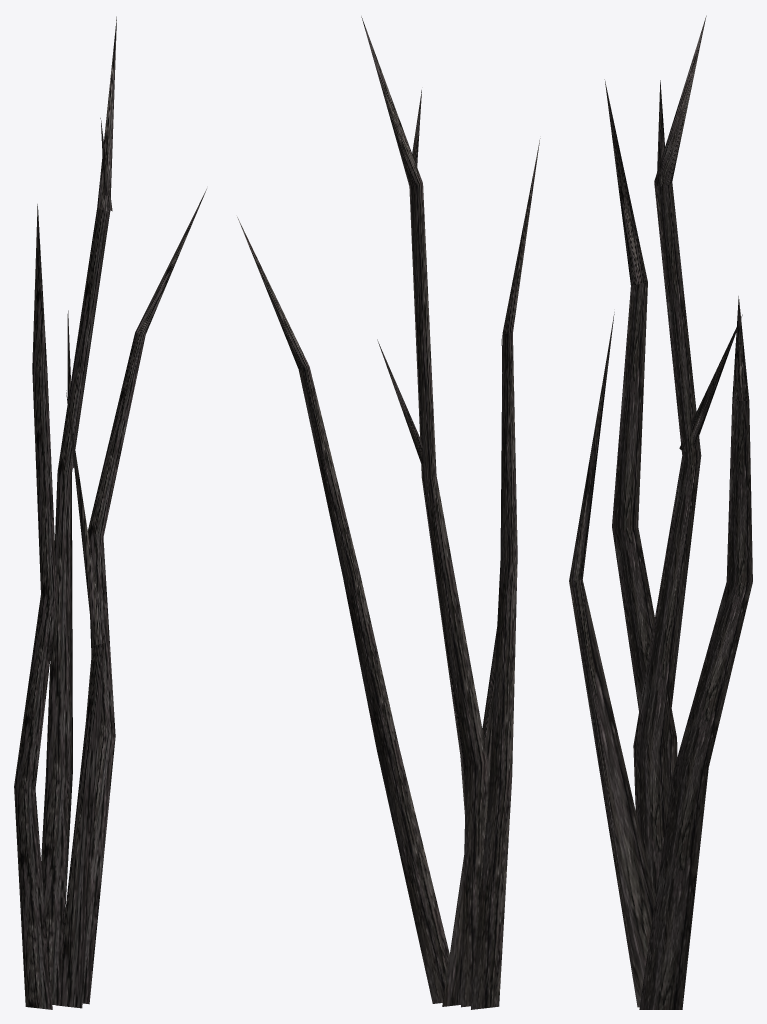
File: Tree05.glb
3 renders of one model, left to right at view 1: azimuth 30°, elevation 25°; view 2: azimuth 150°, elevation 25°; view 3: azimuth 270°, elevation 25°, orthographic. The views are drawn at different scales.
Parts seen in each view (by area): view 1: Tree05; view 2: Tree05; view 3: Tree05.
Part boxes in pixels (<box>): Tree05: <box>14,16,206,1009</box>; Tree05: <box>237,16,540,1009</box>; Tree05: <box>569,15,752,1009</box>.
Size of the model in its own units: 0.9053 by 3.55 by 0.5757.
Materials: 1 (1 with a texture image).
